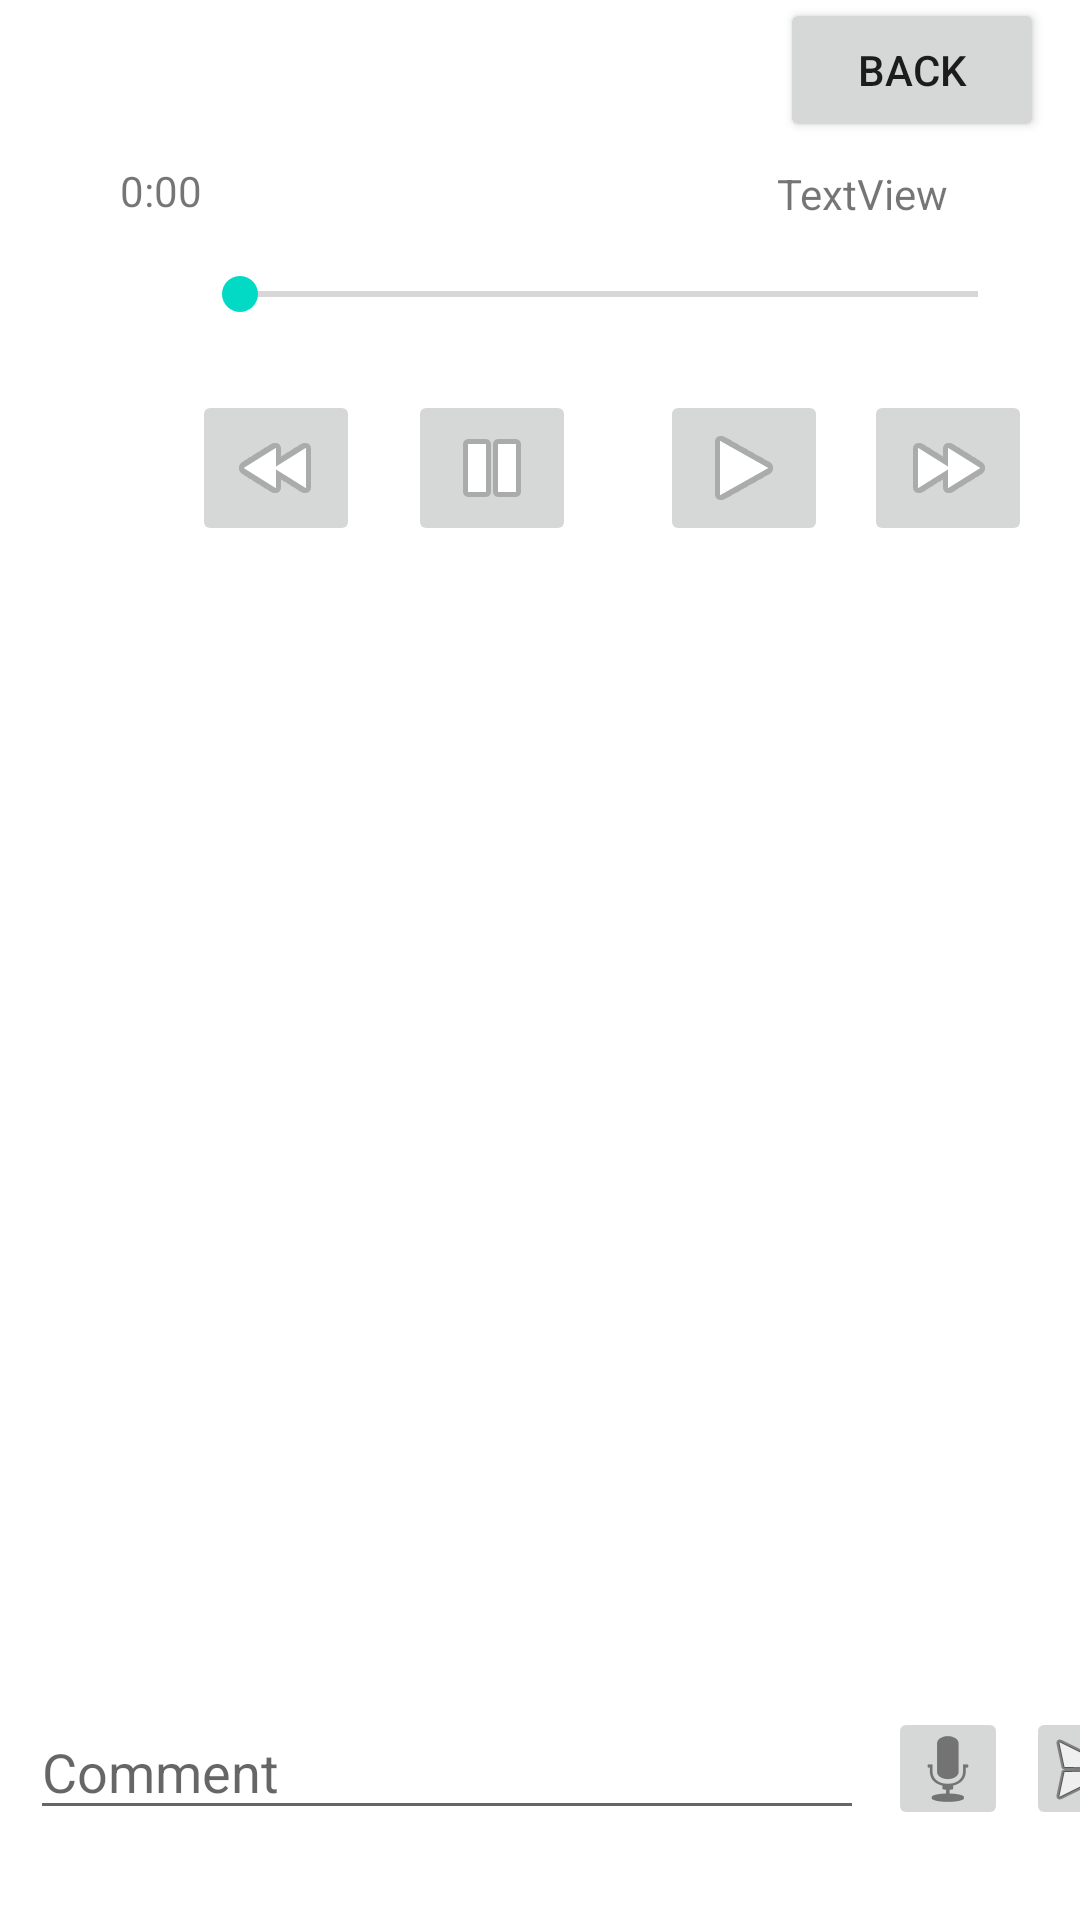

Named icons in this screenshot (1080×1920) and their bounding boxes, (x1, y1, x2, y2):
pause: (420, 408, 564, 528)
play: (672, 408, 816, 528)
rew: (204, 408, 348, 528)
speak now: (900, 1725, 996, 1812)
